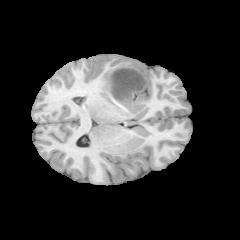glioma: (98, 62, 152, 106)
